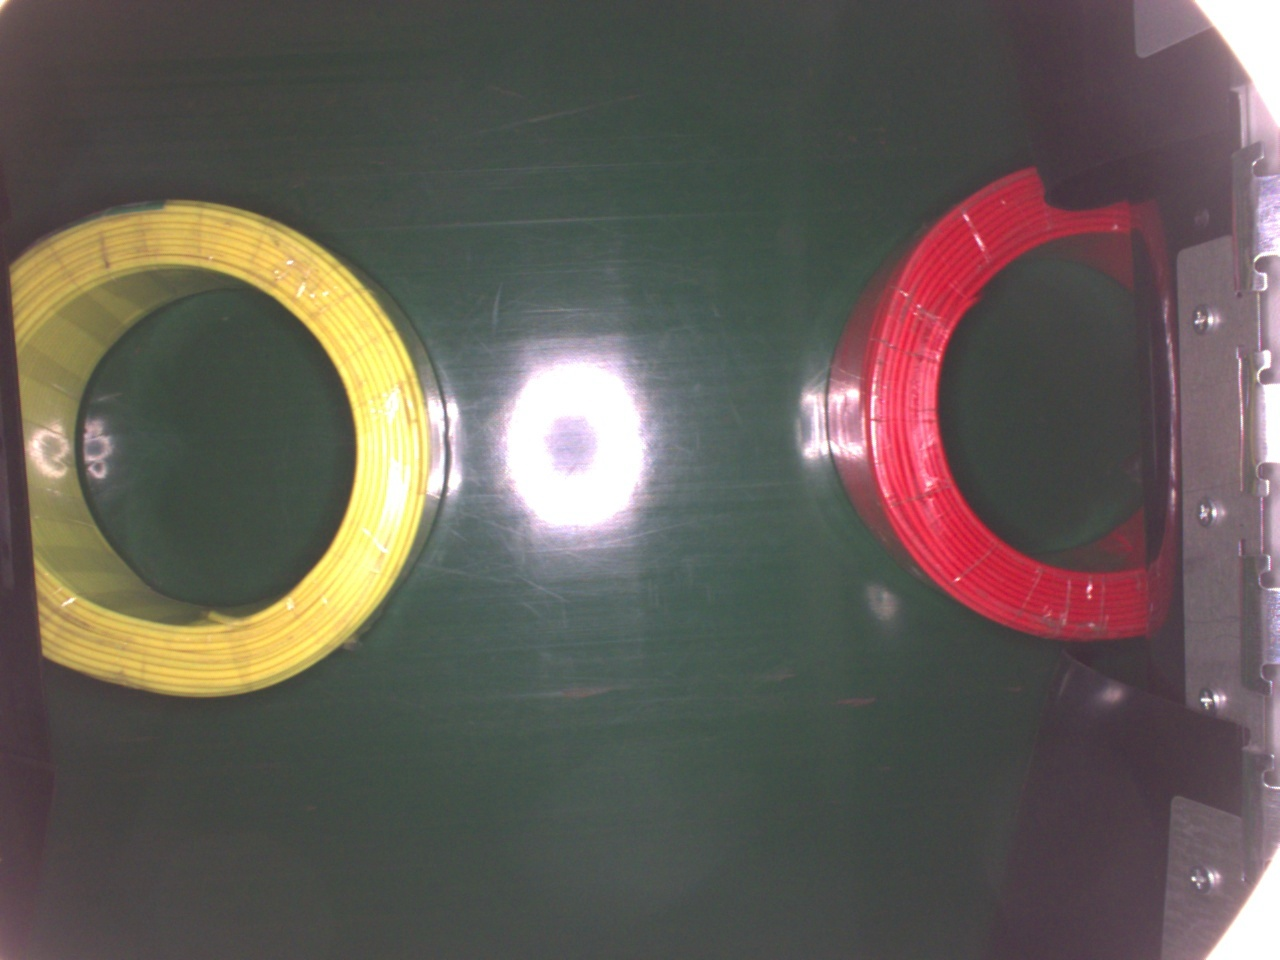red: (826, 161, 1165, 642)
yellow: (6, 192, 449, 696)
